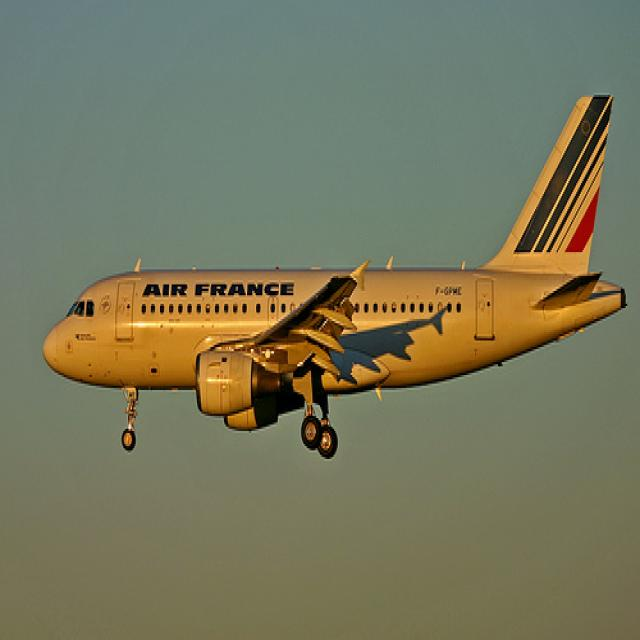aeroplane: (37, 87, 633, 464)
